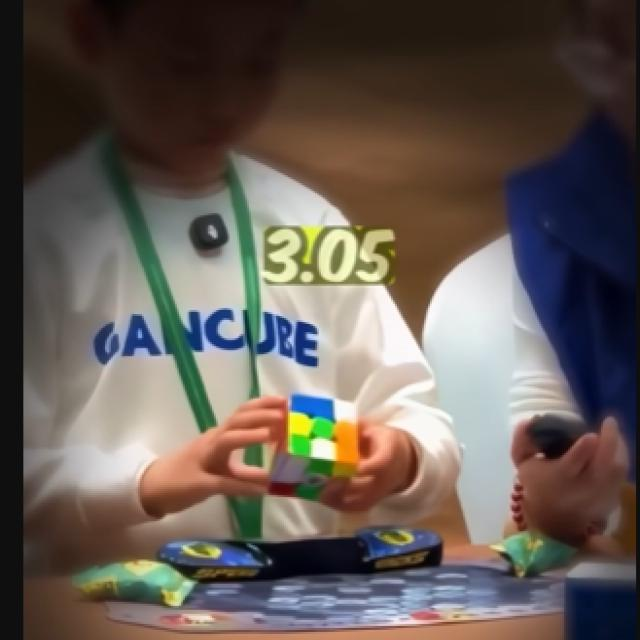Cubo-No-resuelto: (272, 394, 358, 499)
